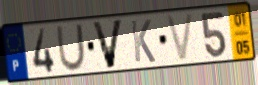4: (31, 26, 57, 75)
5: (199, 11, 228, 60)
K: (129, 18, 157, 65)
U: (55, 22, 87, 73)
V: (90, 18, 126, 71), (163, 11, 196, 64)
